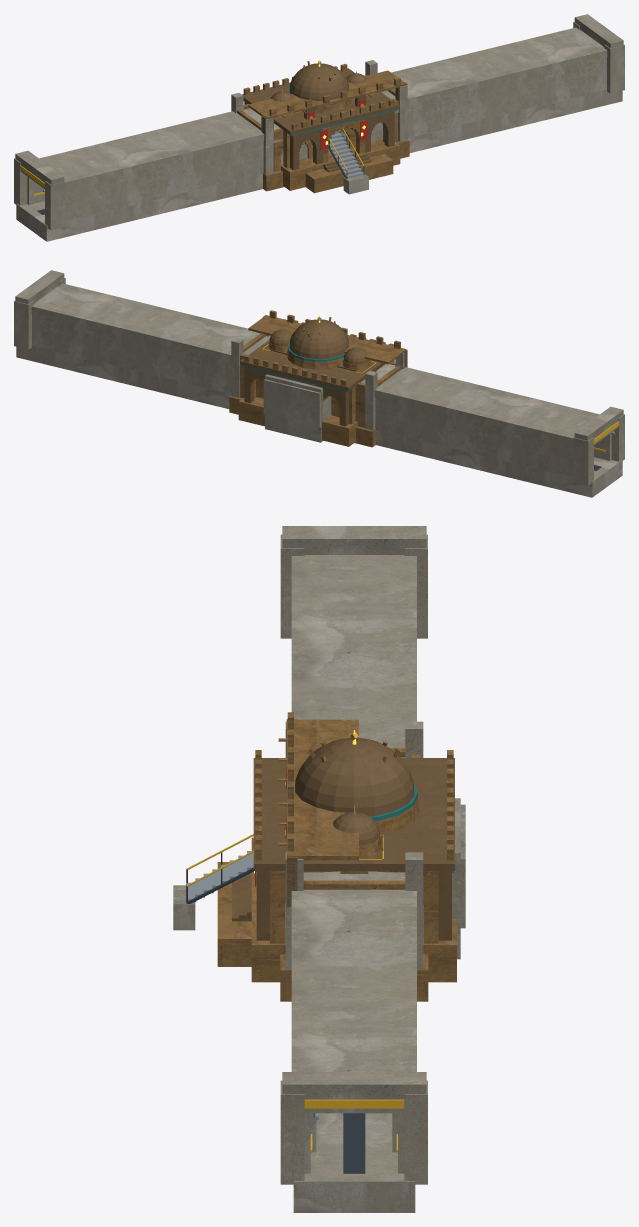
File: v091_ahsarah_fortress.glb
3 renders of one model, top to bottom at view 1: azimuth 30°, elevation 25°; view 2: azimuth 150°, elevation 25°; view 3: azimuth 270°, elevation 25°, orthographic. The views are drawn at different scales.
Visible parts, largest first — view 1: dam_spillway_tunnel, brakkesh_grand_bathhouse, fortress_interior_wing, cement_elevated_catwalk; view 2: dam_spillway_tunnel, brakkesh_grand_bathhouse, fortress_interior_wing; view 3: dam_spillway_tunnel, brakkesh_grand_bathhouse, fortress_interior_wing, cement_elevated_catwalk.
Boxes of the visible parts, x1,y1,x2,y2 form: dam_spillway_tunnel: [14, 14, 624, 241]; brakkesh_grand_bathhouse: [242, 59, 400, 193]; fortress_interior_wing: [231, 60, 409, 191]; cement_elevated_catwalk: [278, 93, 376, 194]; dam_spillway_tunnel: [14, 270, 624, 497]; brakkesh_grand_bathhouse: [238, 315, 394, 446]; fortress_interior_wing: [229, 310, 407, 447]; dam_spillway_tunnel: [280, 526, 465, 1212]; brakkesh_grand_bathhouse: [217, 730, 456, 982]; fortress_interior_wing: [278, 712, 428, 1001]; cement_elevated_catwalk: [173, 832, 383, 930].
Size of the model in its own units: 70 by 11.73 by 15.37.
17 materials, 7 textured.
